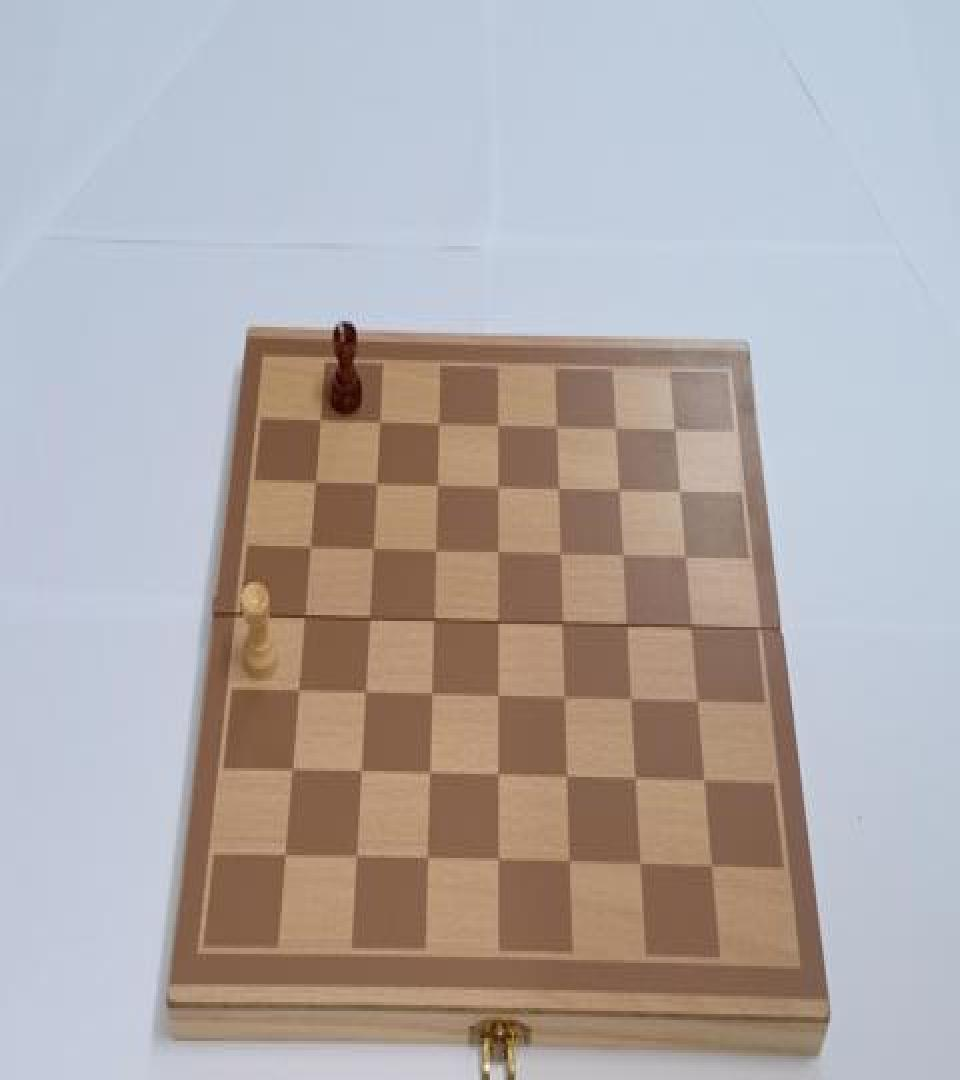xcorner: (281, 760, 299, 788), (547, 478, 565, 506), (608, 478, 626, 506), (663, 418, 681, 446), (310, 414, 328, 441), (300, 540, 318, 567), (294, 609, 312, 636), (288, 683, 306, 710), (274, 844, 292, 871), (369, 415, 387, 442), (358, 610, 376, 637), (354, 684, 372, 711), (350, 762, 368, 789), (345, 846, 363, 873), (428, 415, 446, 442), (426, 477, 444, 504), (422, 610, 440, 637), (420, 684, 438, 711), (486, 415, 504, 442), (486, 477, 504, 504), (486, 543, 504, 570), (487, 612, 505, 639), (487, 849, 505, 876), (545, 417, 563, 444), (549, 543, 567, 570), (551, 612, 569, 639), (553, 687, 571, 714), (556, 765, 574, 792), (558, 849, 576, 876), (604, 417, 622, 444), (612, 545, 630, 572), (620, 687, 638, 714), (625, 766, 643, 793), (630, 851, 648, 878), (668, 480, 686, 507), (674, 545, 692, 572), (687, 689, 705, 716), (694, 766, 712, 793), (701, 852, 719, 879), (305, 476, 323, 502), (365, 476, 383, 502), (362, 542, 380, 568), (424, 542, 442, 568), (418, 764, 436, 790), (416, 848, 434, 874), (487, 686, 505, 712), (487, 764, 505, 790), (616, 614, 634, 640), (680, 614, 698, 640)
